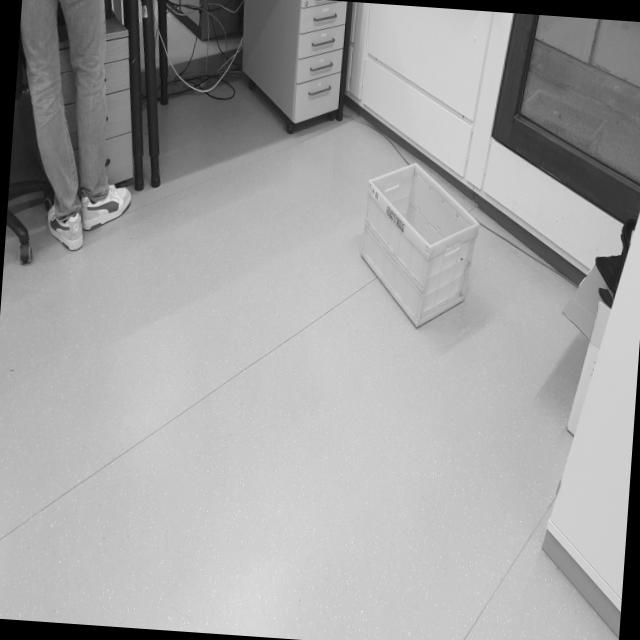box: (346, 148, 493, 358)
